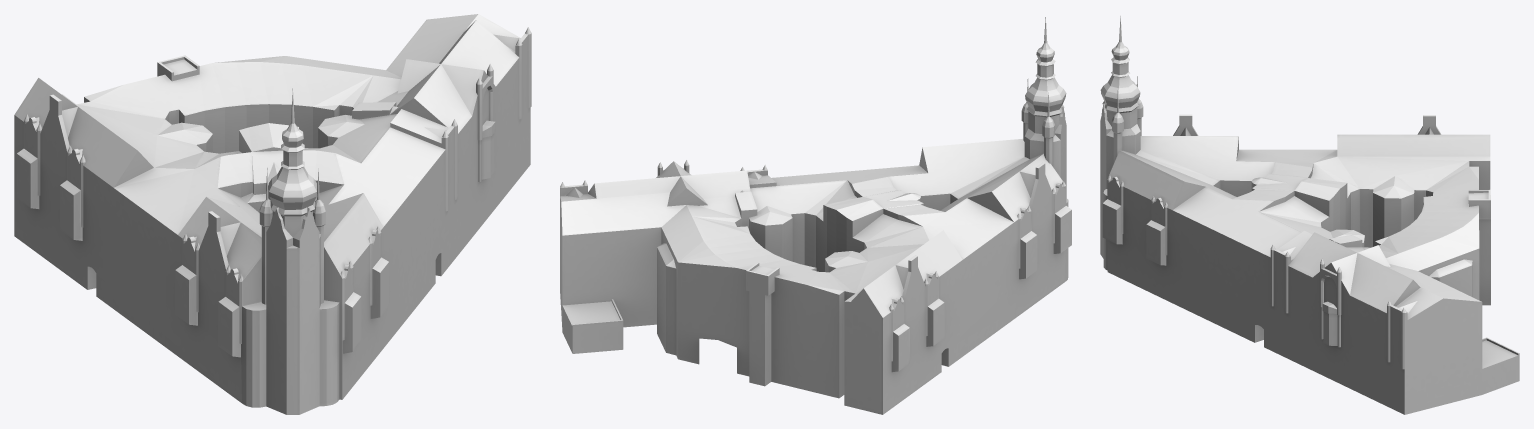
The model's file is houseofcityestablishments.dae.
3 renders of one model, left to right at view 1: azimuth 30°, elevation 25°; view 2: azimuth 150°, elevation 25°; view 3: azimuth 270°, elevation 25°, orthographic. The views are drawn at different scales.
Parts seen in each view (by area): view 1: houseofcityestablishments; view 2: houseofcityestablishments; view 3: houseofcityestablishments.
Boxes of the visible parts, x1,y1,x2,y2 form: houseofcityestablishments: (14,14,531,414); houseofcityestablishments: (560,17,1071,414); houseofcityestablishments: (1100,16,1519,414).
Bounding box in the file's own units: 0.1236 × 0.1246 × 0.0796.
1 material, 1 textured.
